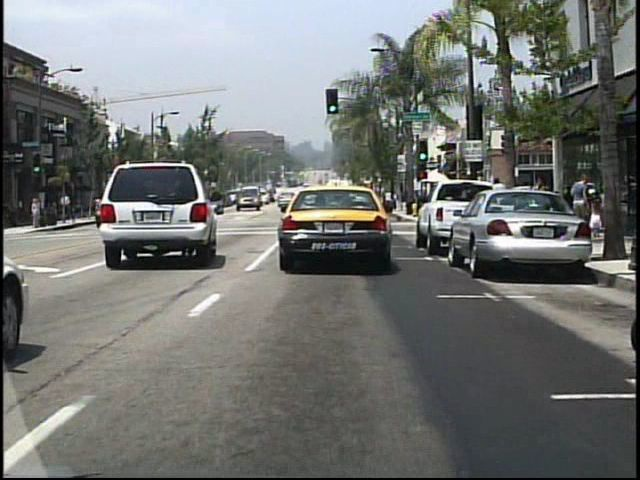person: (533, 176, 554, 237), (571, 172, 591, 234), (587, 194, 604, 237), (31, 195, 43, 231), (61, 190, 74, 222)
